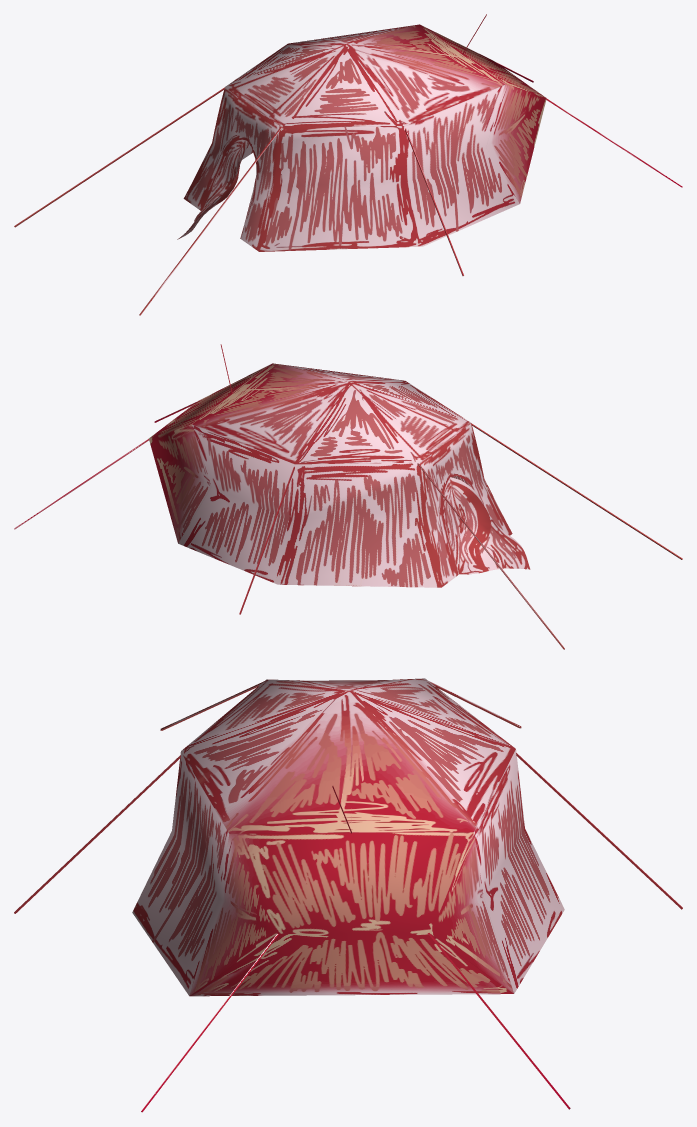
Rendered from tent1_1953.glb.
The picture shows the model from 3 angles, top to bottom: view 1: azimuth 30°, elevation 25°; view 2: azimuth 150°, elevation 25°; view 3: azimuth 270°, elevation 25°; orthographic projection. The views are drawn at different scales.
Visible parts, largest first — view 1: tent1_1953; view 2: tent1_1953; view 3: tent1_1953.
Part boxes in pixels (box(x1,y1,x2,y2)): tent1_1953: box(14, 14, 682, 315); tent1_1953: box(14, 344, 682, 649); tent1_1953: box(14, 678, 682, 1112).
Bounding box in the file's own units: 12.27 × 3.48 × 8.94.
Materials: 1 (1 with a texture image).
